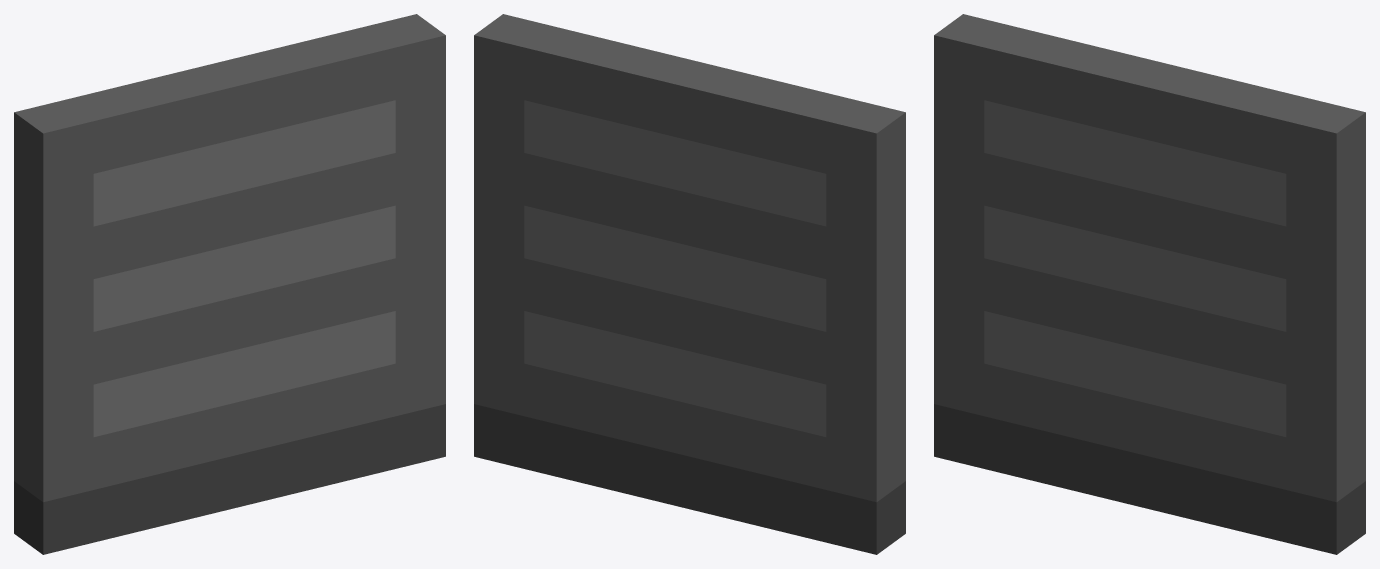
Rendered from 101_Piece15_14_0.obj.
3 views of the same model, side by side, from view 1: azimuth 30°, elevation 25°; view 2: azimuth 150°, elevation 25°; view 3: azimuth 330°, elevation 25° (orthographic).
Parts seen in each view (by area): view 1: 101_Piece15_14_0; view 2: 101_Piece15_14_0; view 3: 101_Piece15_14_0.
Part boxes in pixels (x1,y1,x2,y2): 101_Piece15_14_0: [14, 14, 445, 554]; 101_Piece15_14_0: [474, 14, 905, 554]; 101_Piece15_14_0: [934, 14, 1365, 554].
Size of the model in its own units: 8 by 8 by 1.
1 material, 1 textured.
